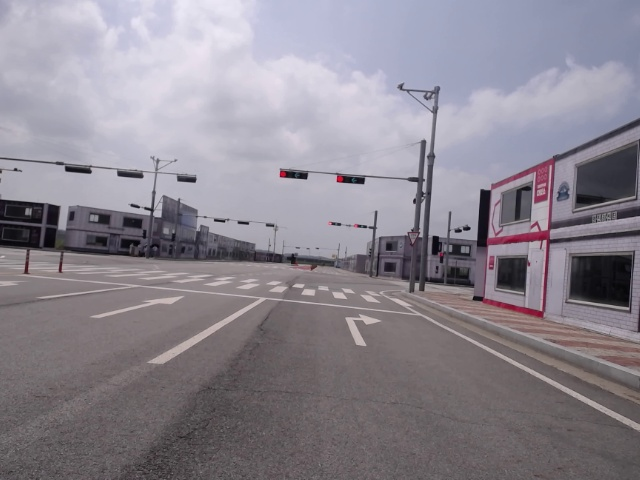left_green_4: (280, 170, 307, 180), (338, 176, 364, 185), (328, 221, 342, 226), (355, 224, 367, 228)
